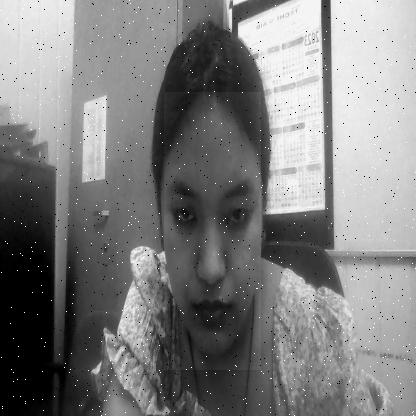Normal: (164, 92, 261, 370)
